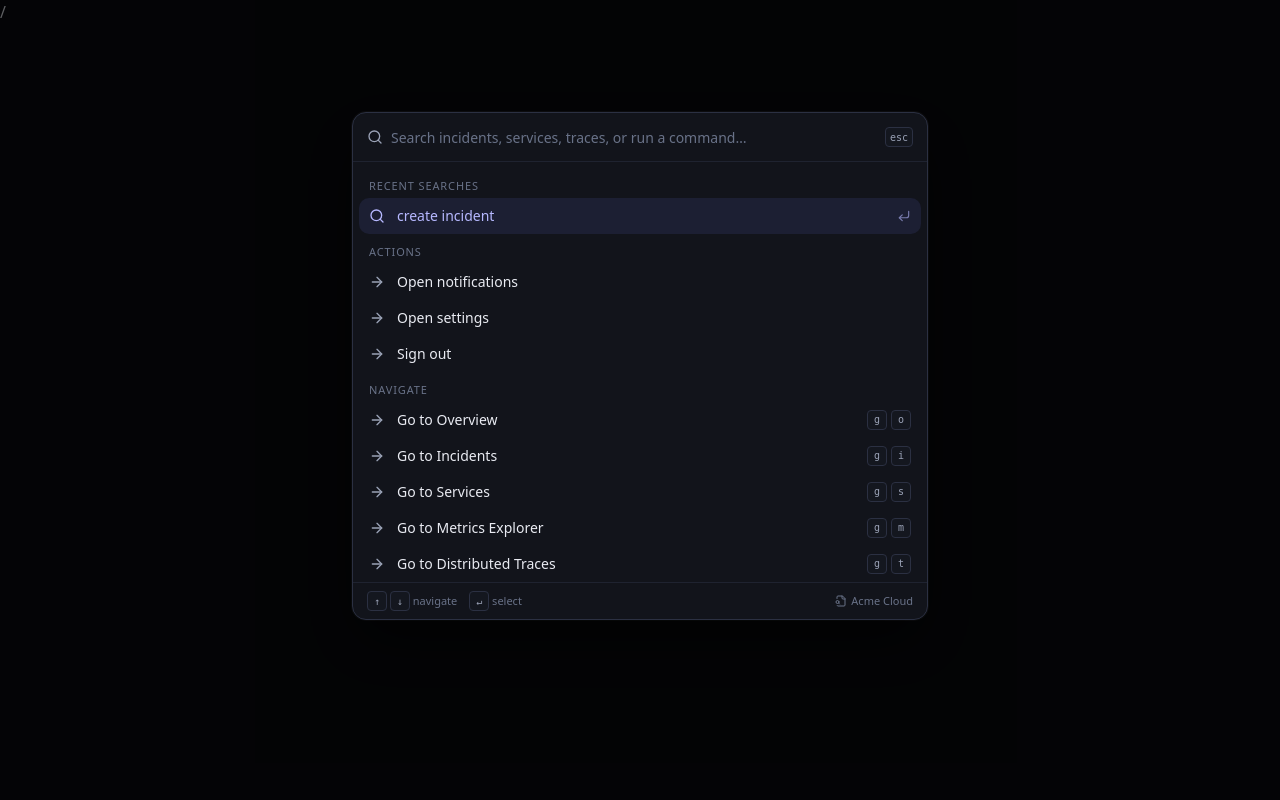
Test case: CommandPalette › is permission-aware: viewers never see create incident
Step 1. Type "create" into the dropdown → (634, 137), box [391,113,877,161]
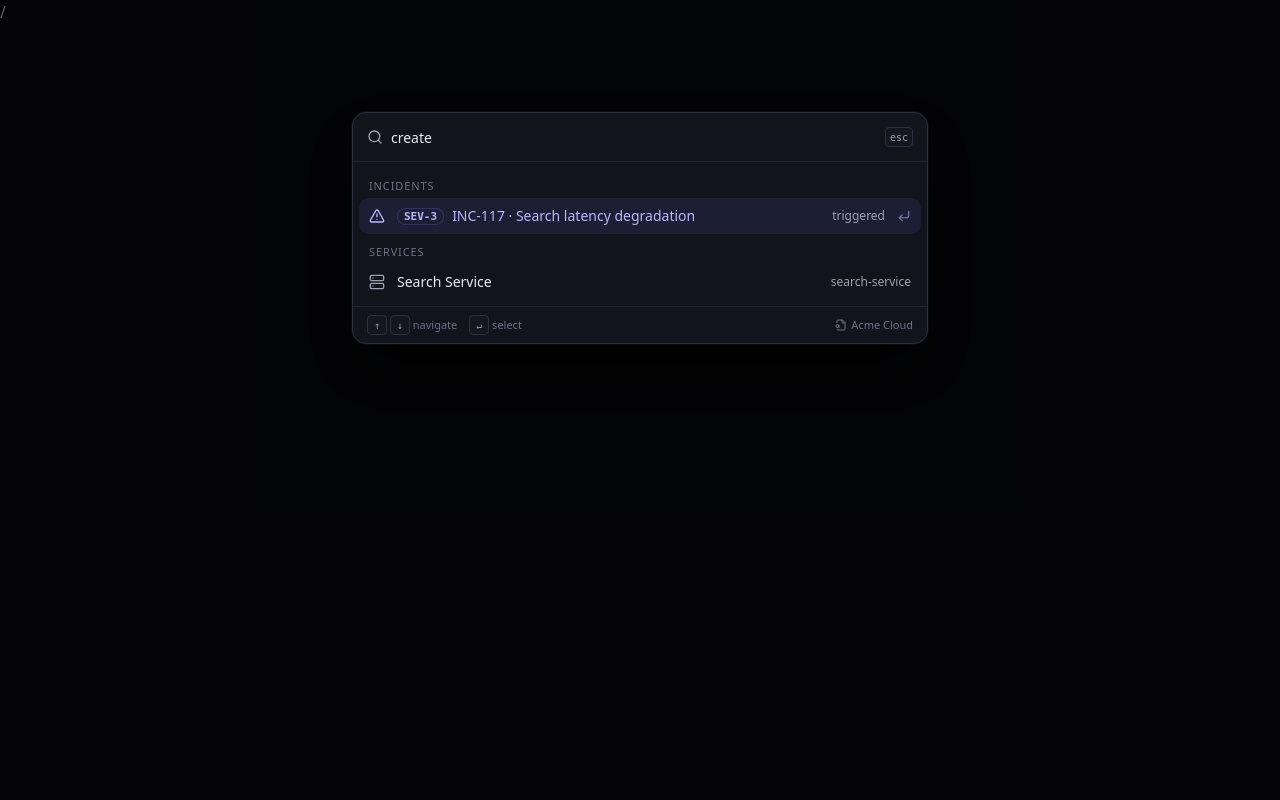
Expected: the option "create incident" is gone
